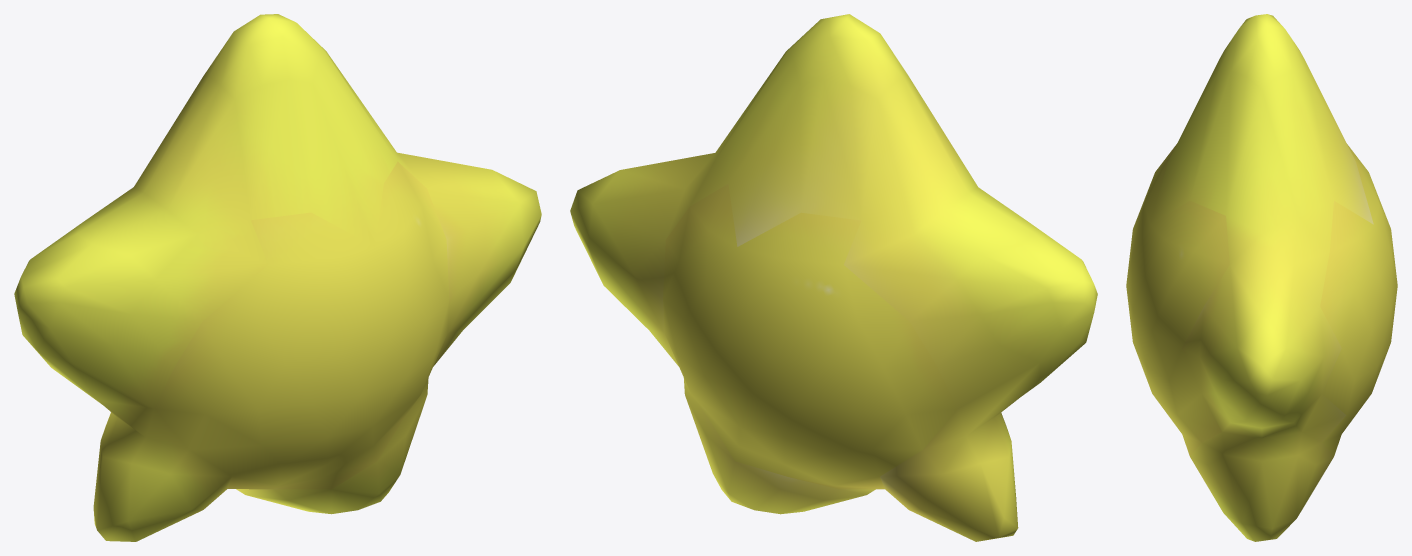
Rendered from star.fbx.
3 renders of one model, left to right at view 1: azimuth 30°, elevation 25°; view 2: azimuth 150°, elevation 25°; view 3: azimuth 270°, elevation 25°, orthographic. The views are drawn at different scales.
Visible parts, largest first — view 1: Icosphere; view 2: Icosphere; view 3: Icosphere.
Boxes of the visible parts, <box> form: Icosphere: <box>14,14,541,541</box>; Icosphere: <box>570,14,1097,541</box>; Icosphere: <box>1126,14,1397,541</box>.
Size of the model in its own units: 1.66 by 1.57 by 0.7984.
1 material, 1 textured.
